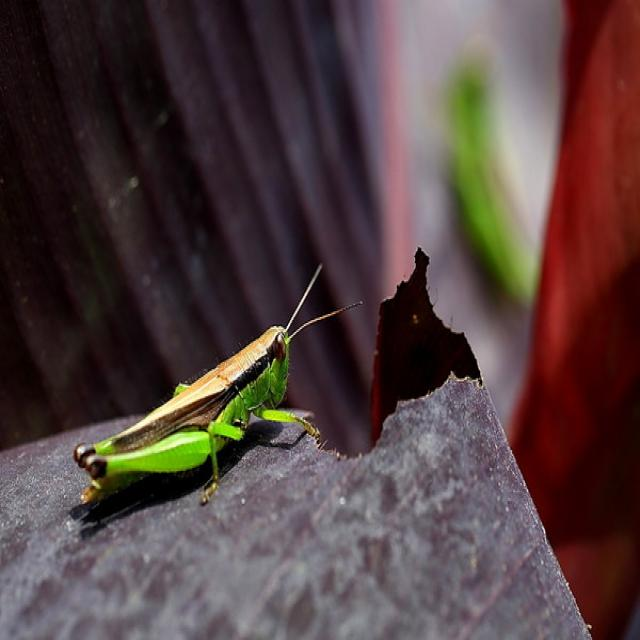ZhaMeng: (69, 303, 338, 514)
